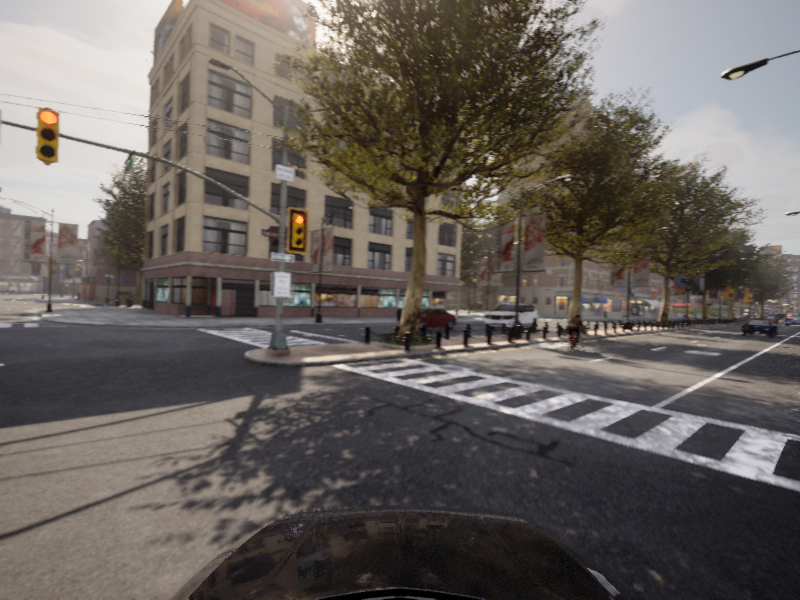vehicle: (480, 301, 542, 333), (395, 307, 461, 331), (559, 313, 591, 353), (740, 319, 778, 338)
